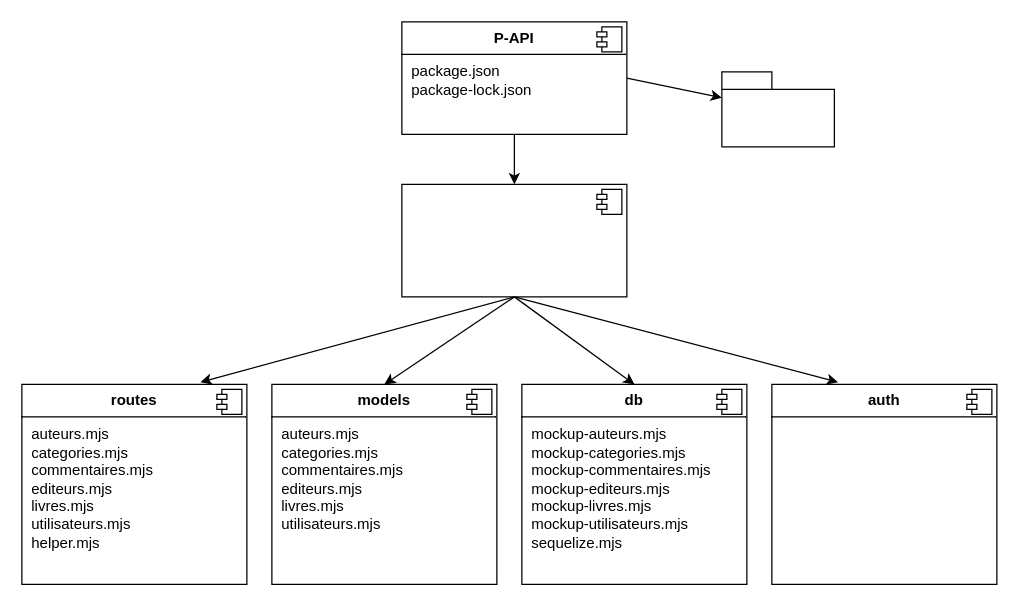
This 1019x606 diagram has some shape labels left out. The centre of each missing label's shape, as x and y in pixels:
node_module: point 777,109
src app.mjs: point 514,240
